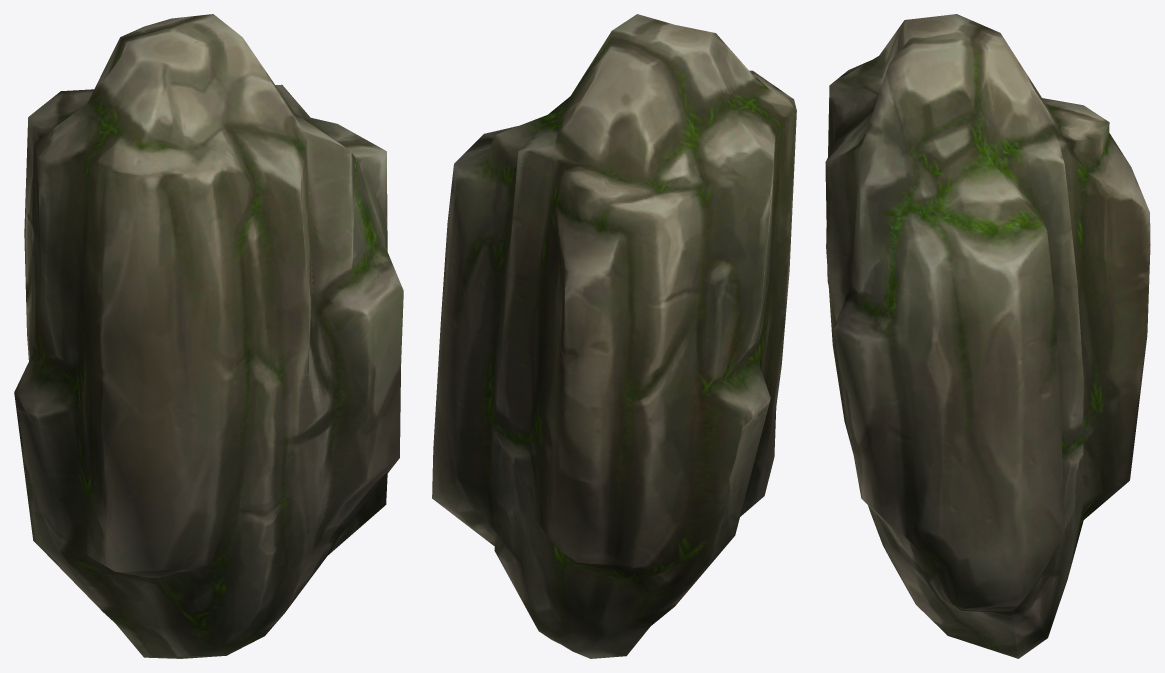
The model's file is RockFormation_4_2 (40).fbx.
The picture shows the model from 3 angles, left to right: view 1: azimuth 30°, elevation 25°; view 2: azimuth 150°, elevation 25°; view 3: azimuth 270°, elevation 25°; orthographic projection. The views are drawn at different scales.
Parts seen in each view (by area): view 1: RockFormation_4_2 (40); view 2: RockFormation_4_2 (40); view 3: RockFormation_4_2 (40).
Part boxes in pixels (bbox=[...]): RockFormation_4_2 (40): bbox=[14, 14, 403, 658]; RockFormation_4_2 (40): bbox=[432, 14, 796, 658]; RockFormation_4_2 (40): bbox=[825, 14, 1150, 658].
Bounding box in the file's own units: 98.09 × 179 × 87.37.
